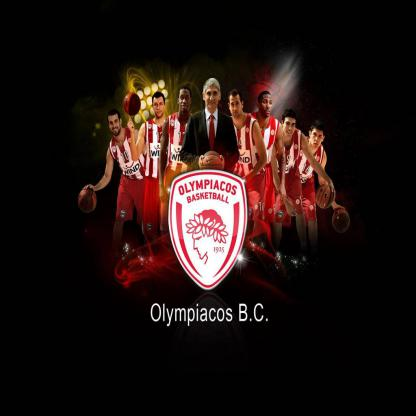face: (206, 88, 219, 112), (230, 96, 242, 119), (261, 95, 273, 118), (180, 91, 191, 114), (284, 117, 296, 138), (109, 116, 121, 136), (312, 130, 324, 150), (154, 98, 165, 118)
